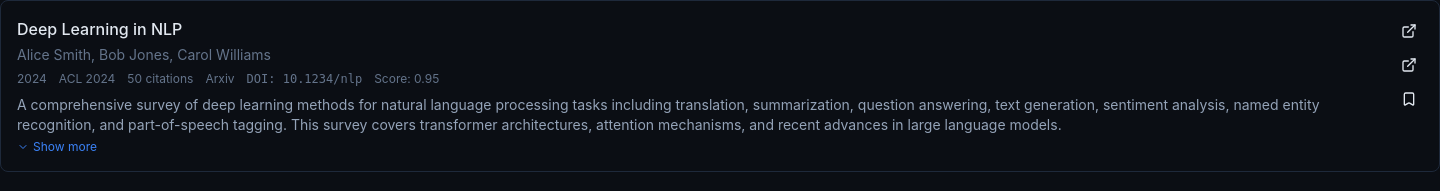
it: PaperCard › expands abstract when show more is clicked
Click the button with aria-label "expand abstract".
click(57, 147)  # box top-left (17, 139), bottom-right (97, 155)
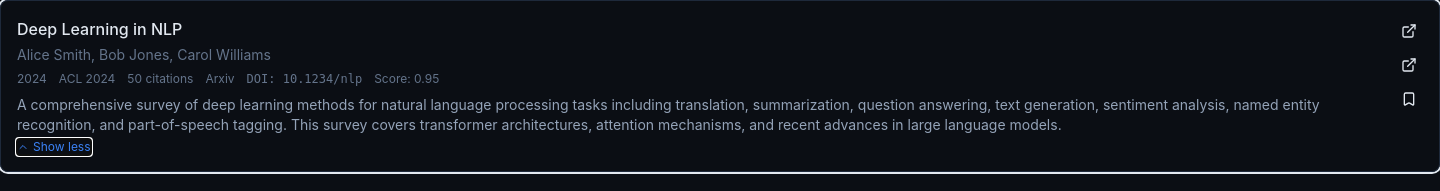
Expected: the button with aria-label "collapse abstract" is shown, top-left (17, 139), bottom-right (90, 155)
